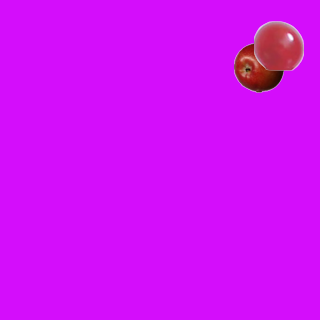Apple Braeburn: (233, 42, 283, 92)
Redcurrant: (253, 20, 303, 70)
